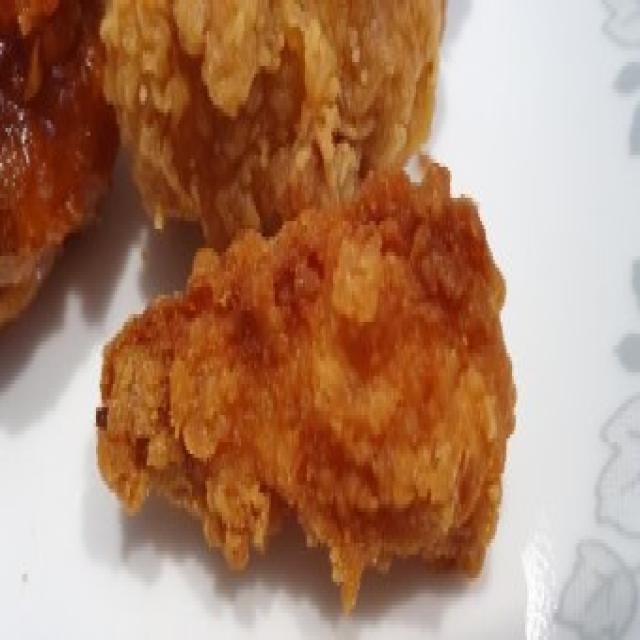Frango: (101, 182, 524, 602)
